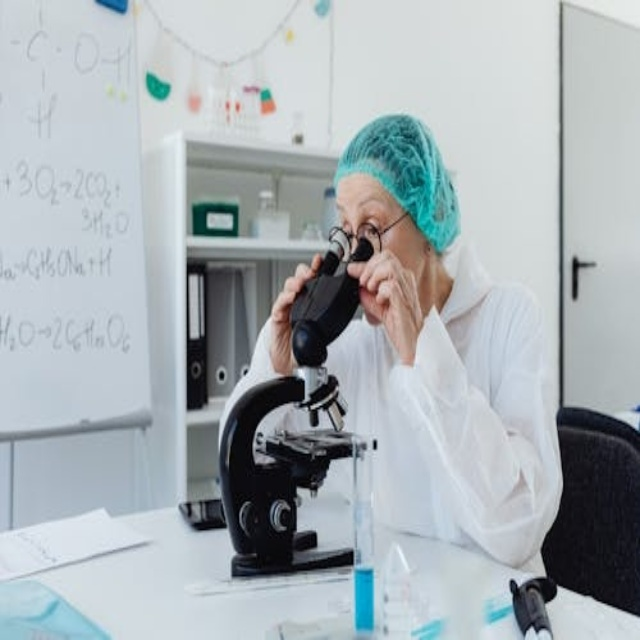Gafas: (332, 210, 411, 259)
Sin_guantes: (351, 252, 428, 354), (268, 246, 321, 375)
